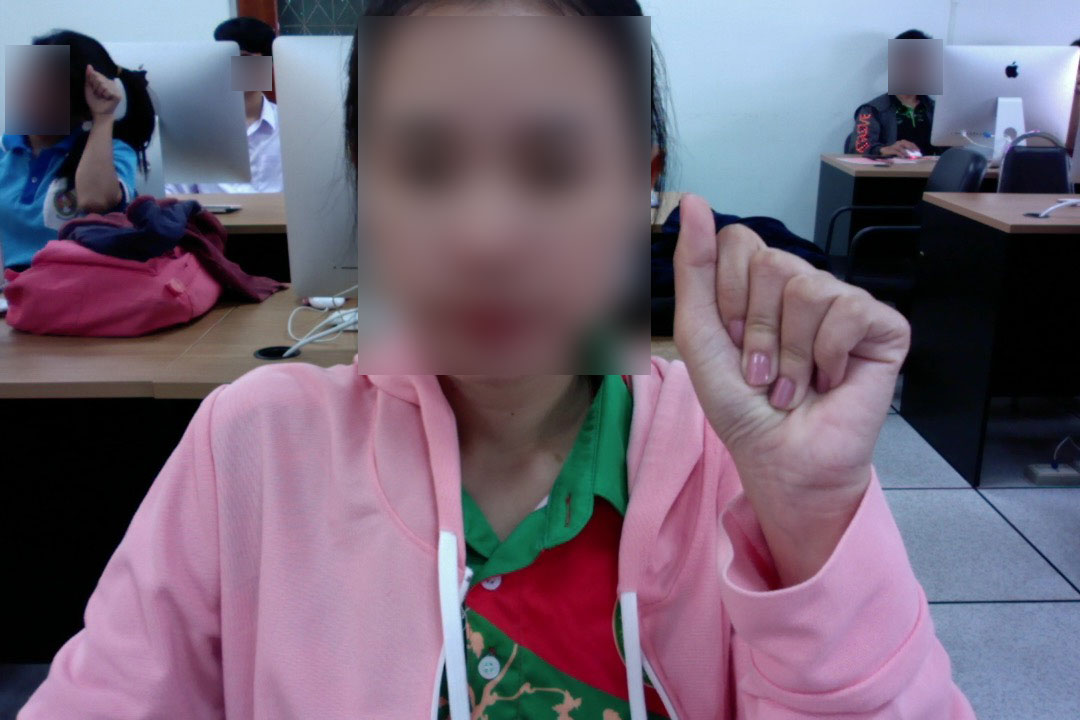or: (667, 181, 916, 532)
